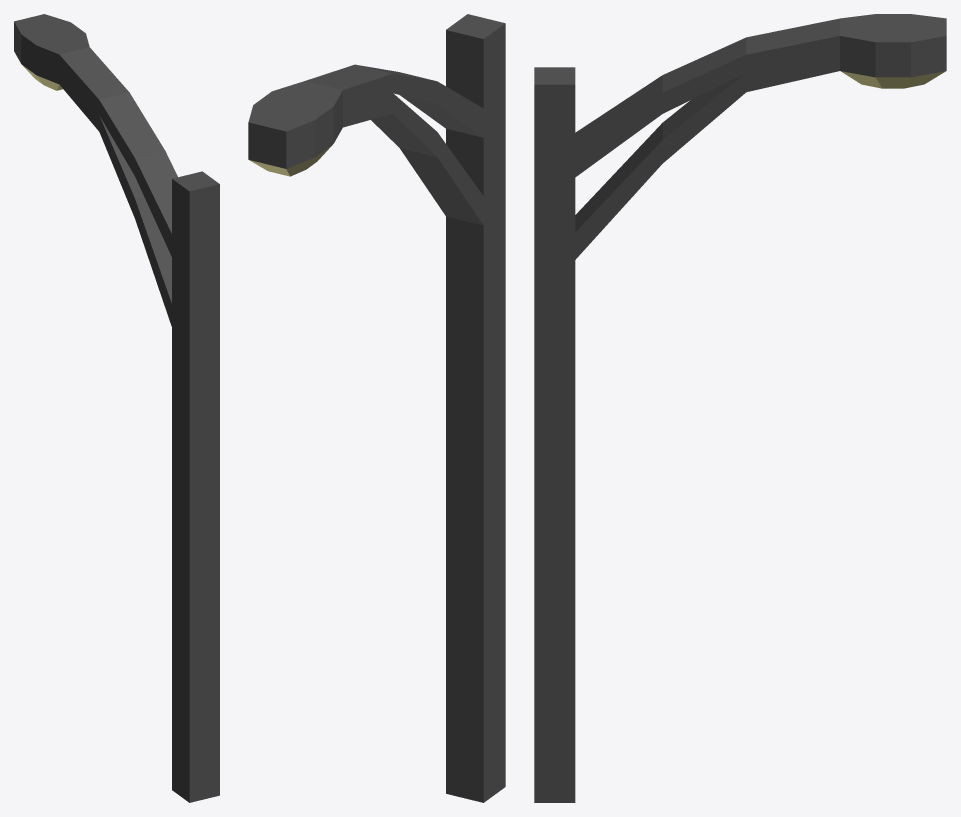
File: LightPole_01.fbx
3 views of the same model, side by side, from view 1: azimuth 30°, elevation 25°; view 2: azimuth 150°, elevation 25°; view 3: azimuth 270°, elevation 25° (orthographic). The views are drawn at different scales.
Parts seen in each view (by area): view 1: LightPole; view 2: LightPole; view 3: LightPole.
Part boxes in pixels (bbox=[...]): LightPole: bbox=[14, 14, 219, 802]; LightPole: bbox=[248, 14, 505, 802]; LightPole: bbox=[534, 14, 946, 802].
Bounding box in the file's own units: 57 × 720 × 351.
